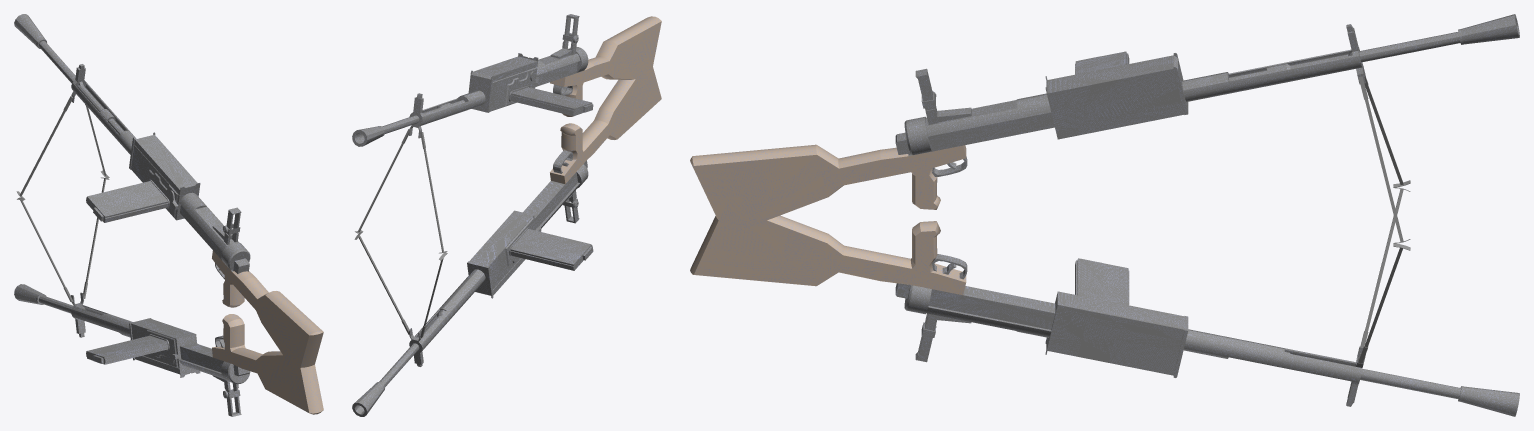
The picture shows the model from 3 angles, left to right: view 1: azimuth 30°, elevation 25°; view 2: azimuth 150°, elevation 25°; view 3: azimuth 270°, elevation 25°; orthographic projection. The views are drawn at different scales.
Parts seen in each view (by area): view 1: group_0 (×10), group_3 (×9); view 2: group_3 (×8), group_0 (×8), group_2; view 3: group_3 (×9), group_0 (×9).
Part boxes in pixels (x1,y1,x2,y2): group_0 (×10): [14, 14, 323, 376]; group_3 (×9): [14, 284, 323, 416]; group_3 (×8): [352, 60, 661, 416]; group_0 (×8): [352, 14, 661, 146]; group_2: [423, 148, 443, 252]; group_3 (×9): [690, 205, 1519, 416]; group_0 (×9): [690, 14, 1519, 233].
Size of what is drawn, in the model's own units: 891 by 3805 by 2027.
